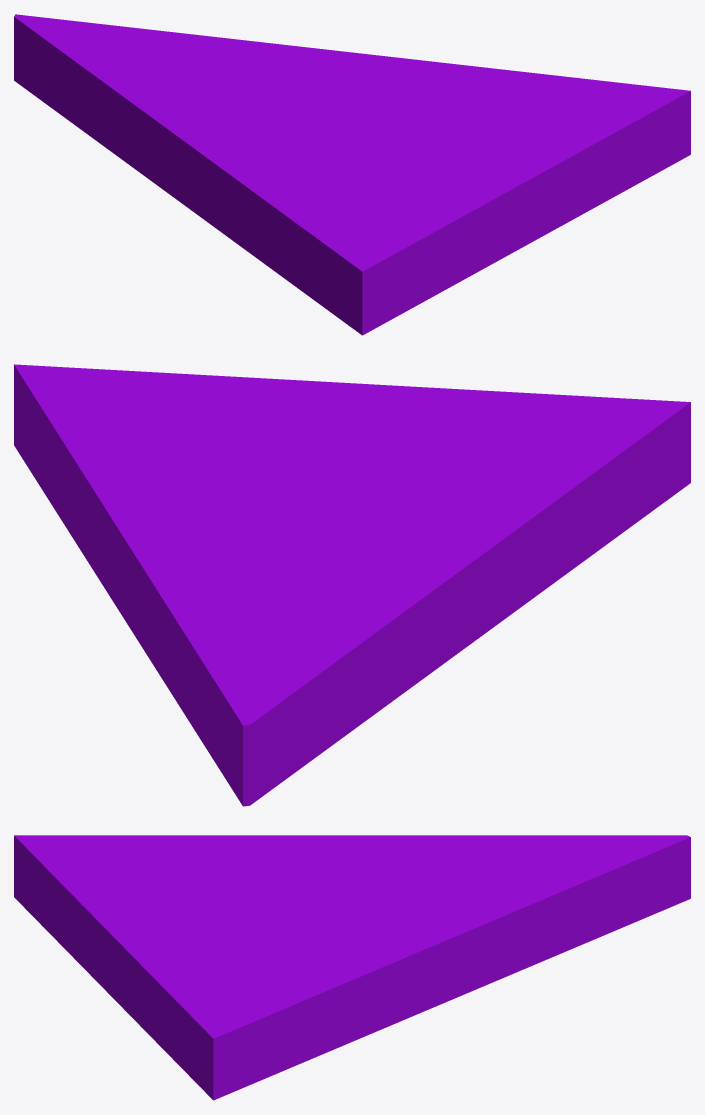
File: Item3.fbx
3 renders of one model, top to bottom at view 1: azimuth 30°, elevation 25°; view 2: azimuth 150°, elevation 25°; view 3: azimuth 270°, elevation 25°, orthographic. The views are drawn at different scales.
Visible parts, largest first — view 1: Cylinder.003; view 2: Cylinder.003; view 3: Cylinder.003.
Part boxes in pixels (<box>): Cylinder.003: <box>14,14,690,335</box>; Cylinder.003: <box>14,364,690,806</box>; Cylinder.003: <box>14,835,690,1100</box>.
Size of the model in its own units: 141 by 20 by 199.
